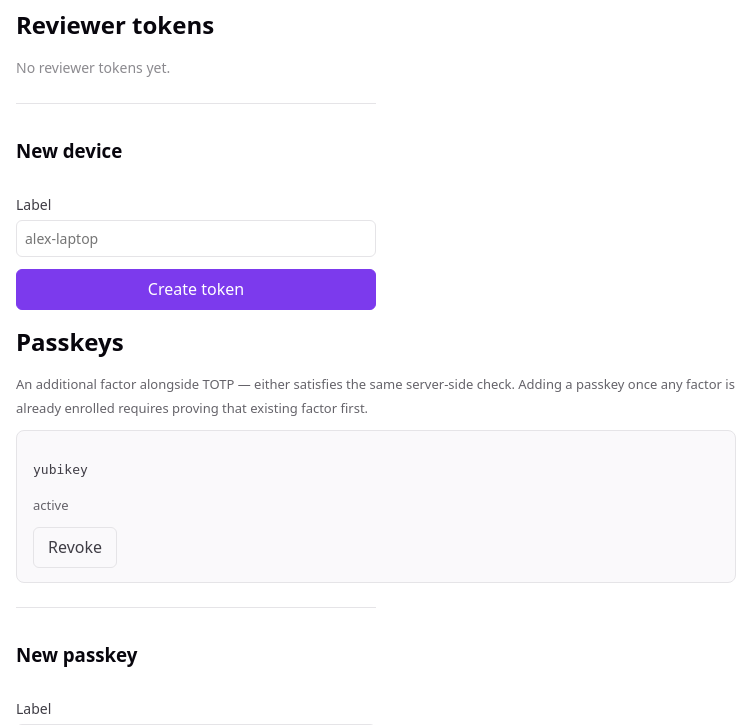
Test: TokensPage (Passkeys section) — supported browser › revokes a passkey after confirmation and reflects the revoked state
Expected: the text "active" is shown, 33,496 -> 68,514
Step 1. Click the button "Revoke" → (75, 548), box 33,527 -> 117,568
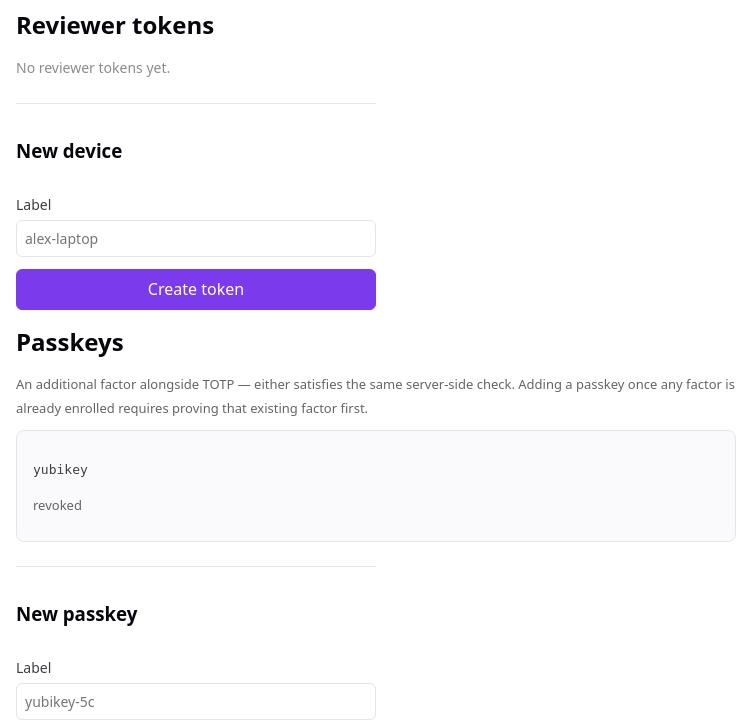
Expected: the text "revoked" is shown, 33,496 -> 82,514
